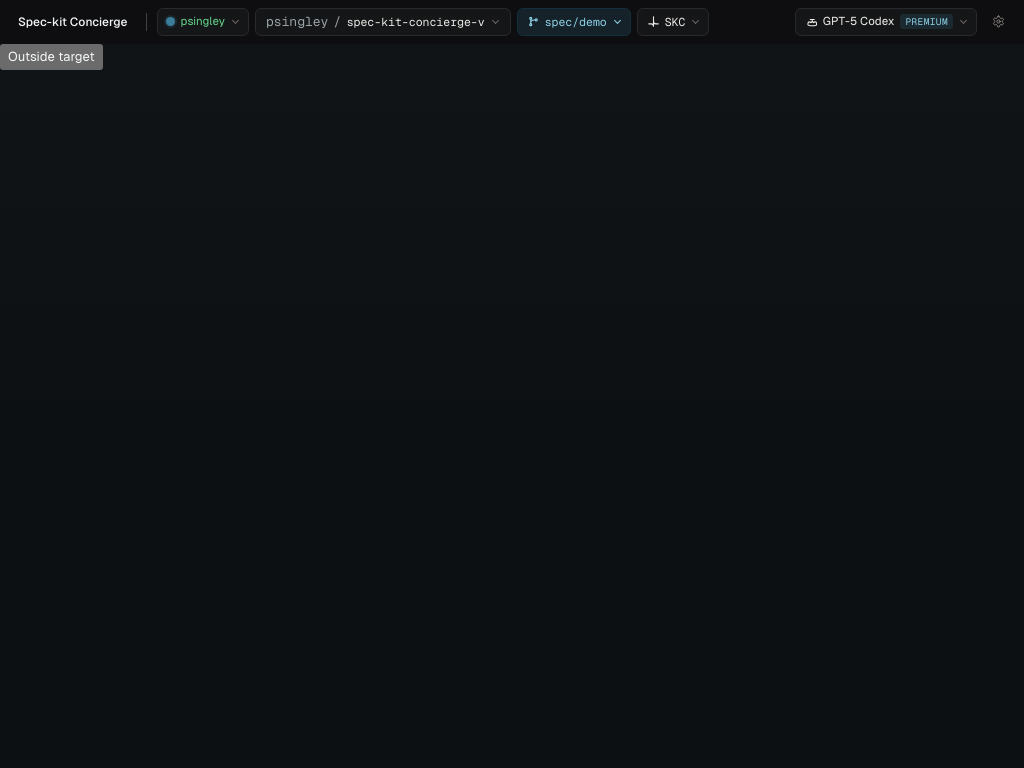
Test: Titlebar dropdowns › shows an honest error state when the repository query fails
Click the button with aria-label "psingley/spec-kit-concierge-v": (383, 22) [255,8,511,36]
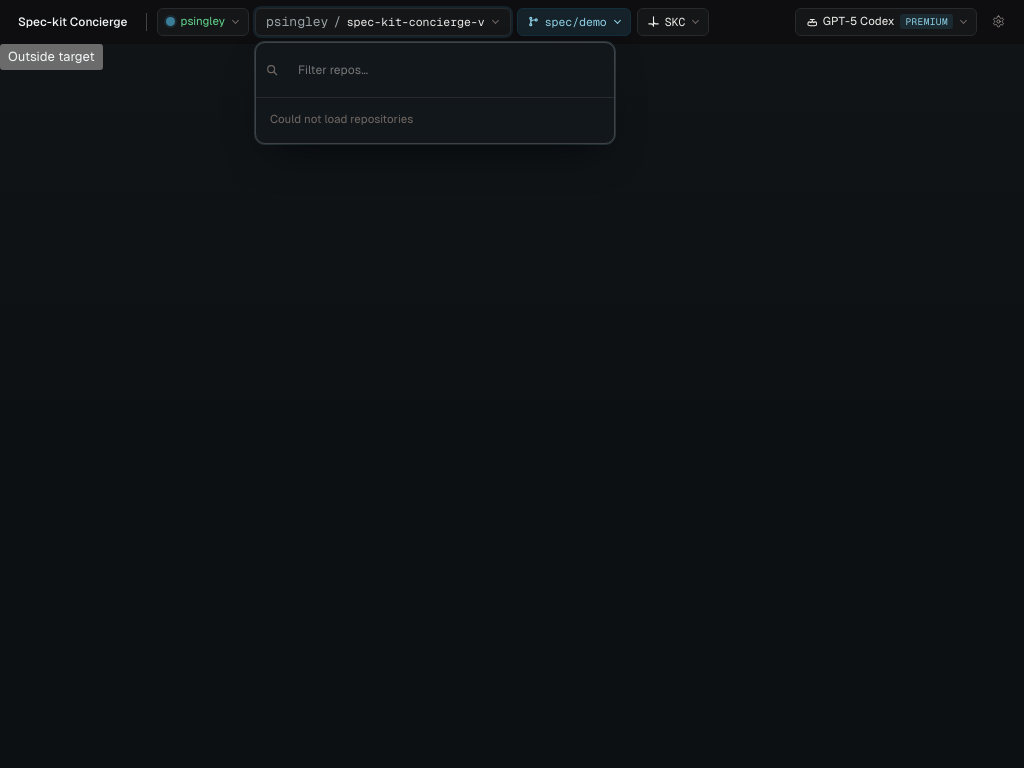
Expected: the text "Could not load repositories" is shown, [270,112,414,126]
